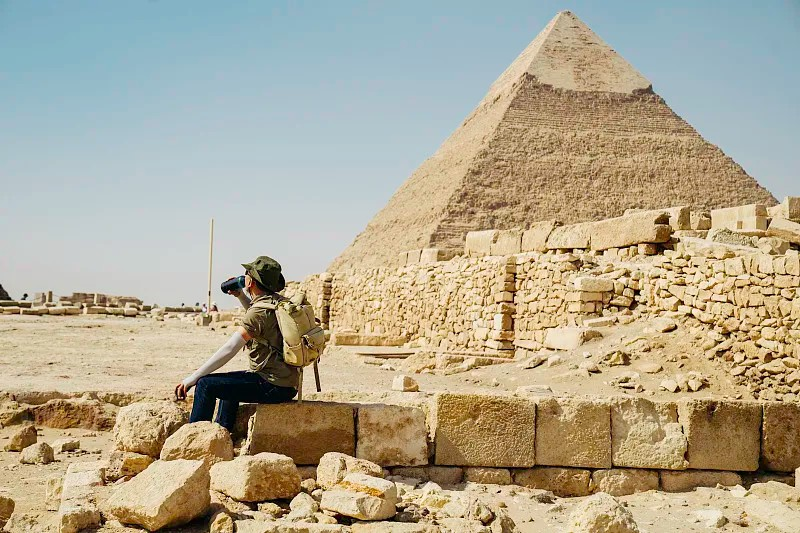Pyramid: (328, 10, 781, 276)
